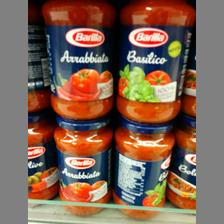Tomatensauce: (114, 0, 194, 124), (39, 1, 114, 119), (50, 114, 112, 216), (110, 121, 174, 218)
